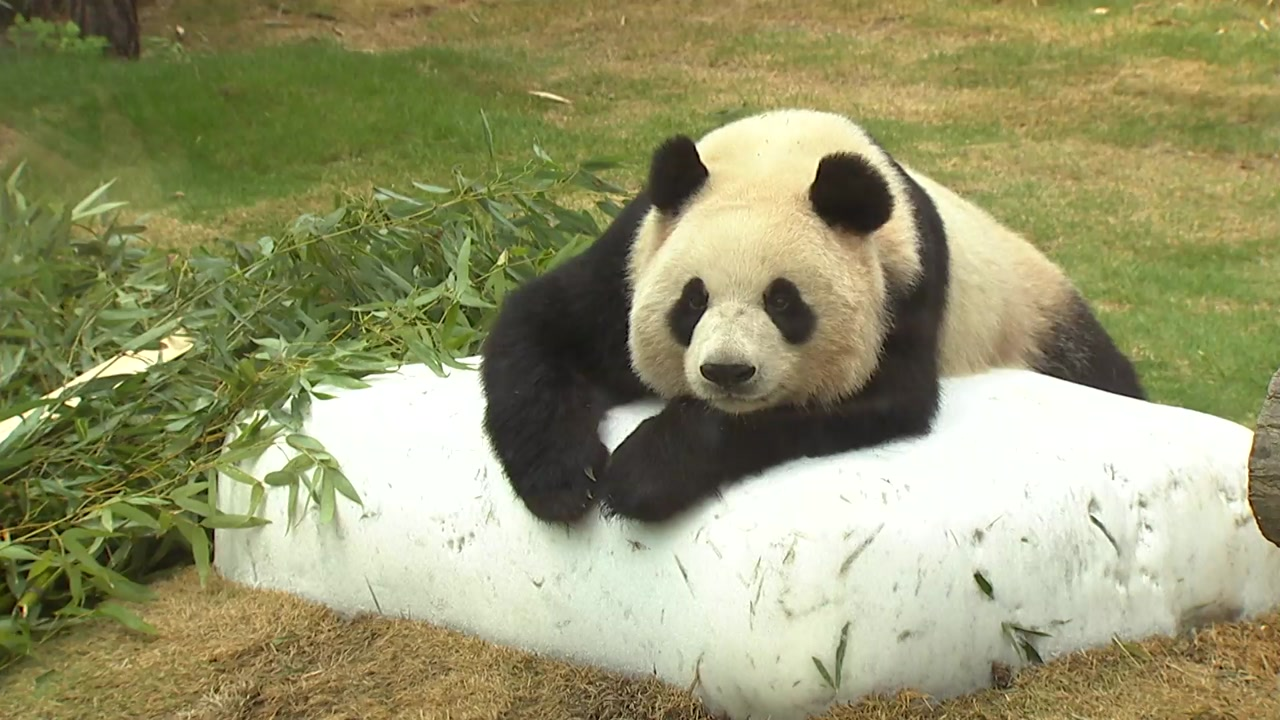panda: (474, 90, 1163, 544)
